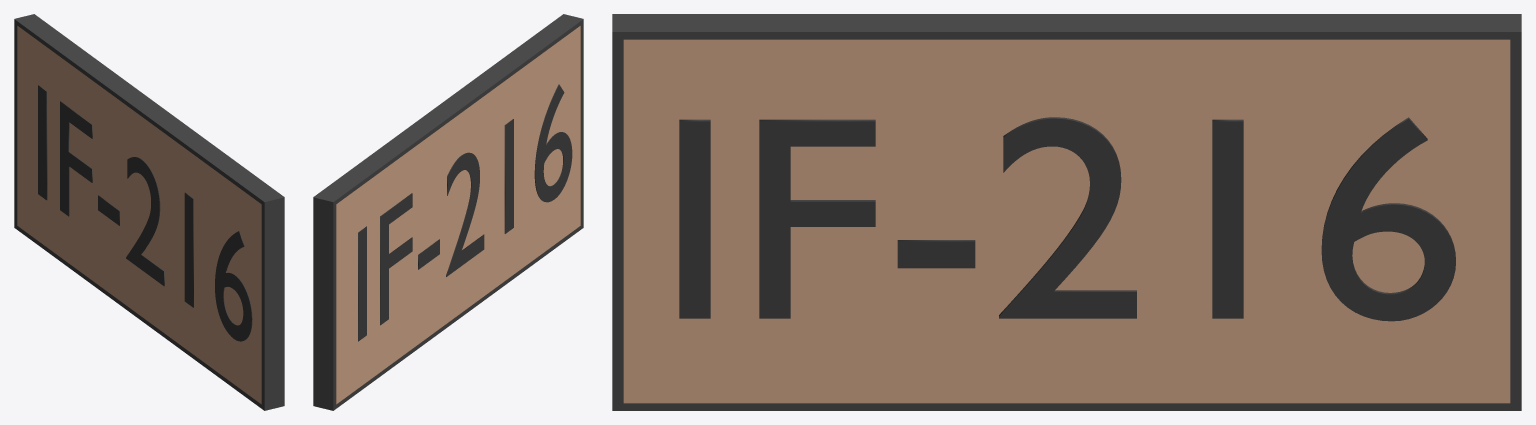
3 views of the same model, side by side, from view 1: azimuth 30°, elevation 25°; view 2: azimuth 150°, elevation 25°; view 3: azimuth 270°, elevation 25° (orthographic). The views are drawn at different scales.
Visible parts, largest first — view 1: Cube, Text.001; view 2: Cube, Text.001; view 3: Cube, Text.
Boxes of the visible parts, left/top/right/bottom form: Cube: left=14, top=14, right=284, bottom=410; Text.001: left=38, top=85, right=252, bottom=341; Cube: left=313, top=14, right=583, bottom=410; Text.001: left=358, top=84, right=572, bottom=341; Cube: left=612, top=14, right=1521, bottom=410; Text: left=679, top=117, right=1455, bottom=321.
Bounding box in the file's own units: 11.55 × 102 × 222.
